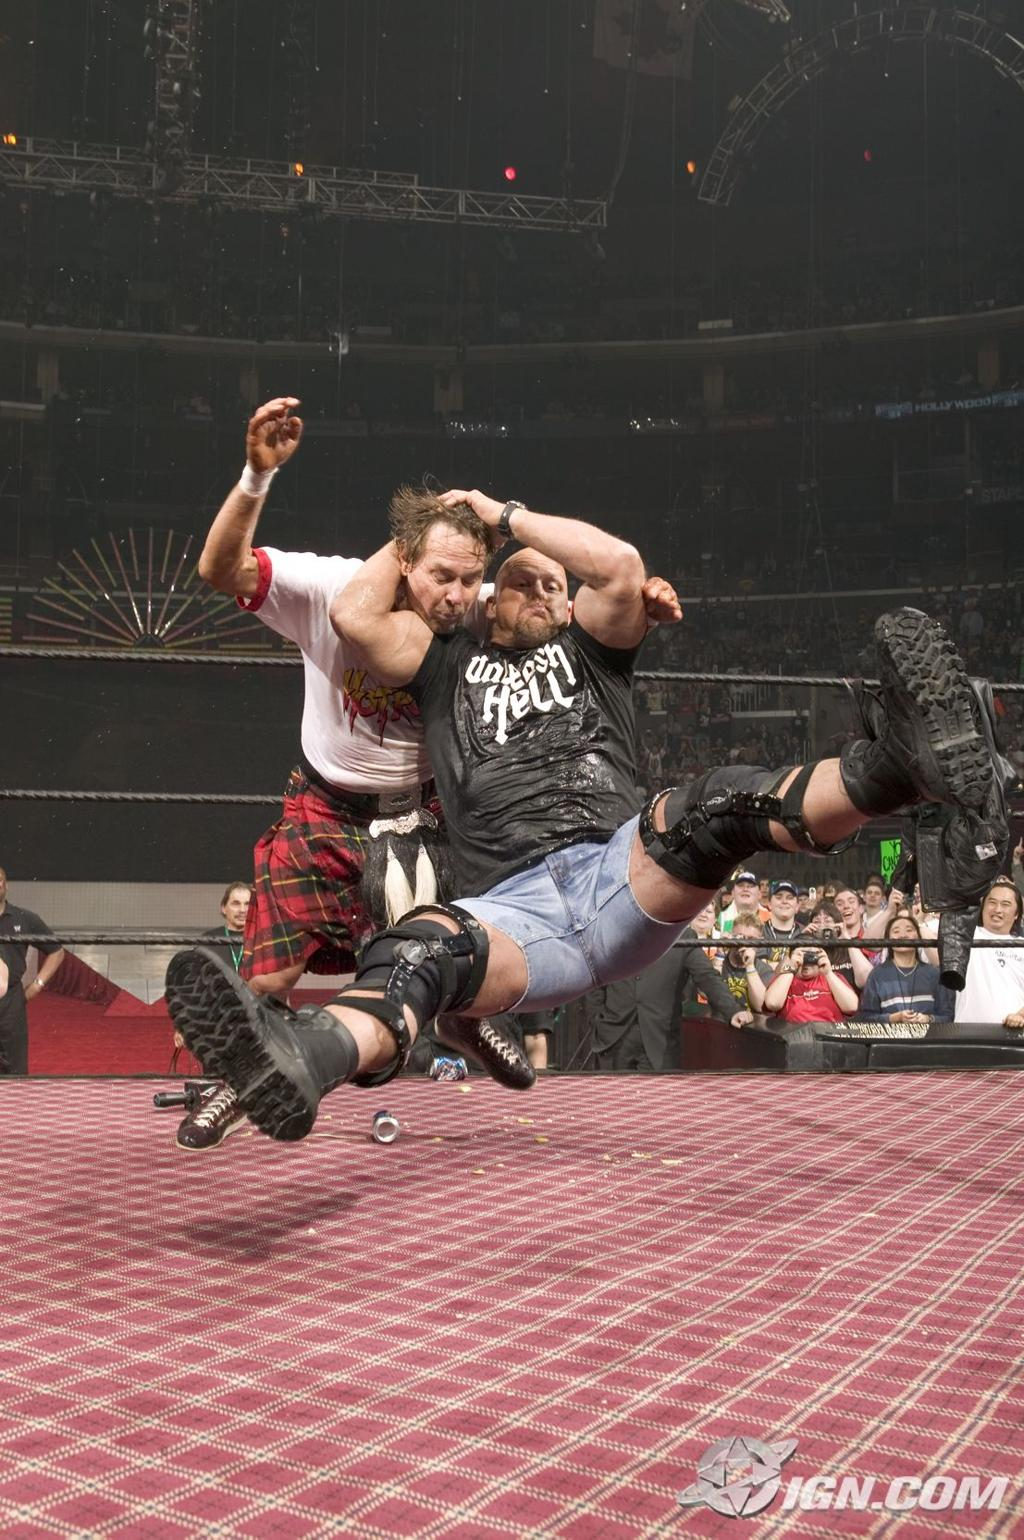face: (411, 528, 484, 634), (495, 550, 567, 645), (982, 886, 1016, 928), (225, 886, 253, 925), (792, 944, 820, 978), (889, 920, 916, 951), (833, 892, 859, 923), (775, 884, 801, 914), (812, 913, 835, 940), (691, 902, 714, 929), (734, 881, 758, 905)
